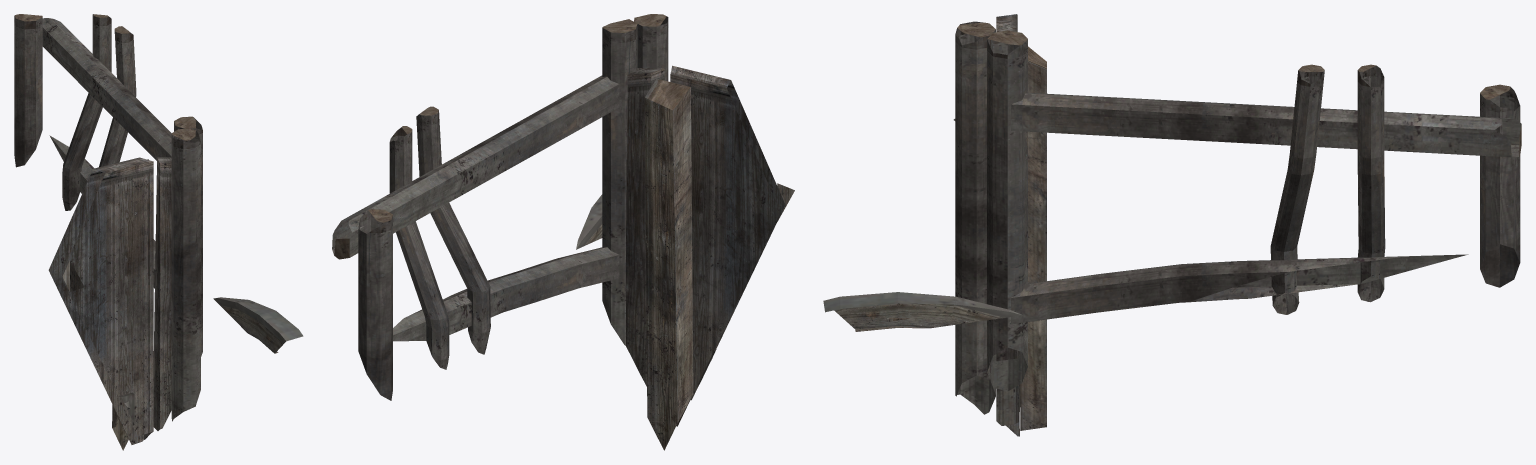
The model's file is Wagon3_17.fbx.
The picture shows the model from 3 angles, left to right: view 1: azimuth 30°, elevation 25°; view 2: azimuth 150°, elevation 25°; view 3: azimuth 270°, elevation 25°; orthographic projection. The views are drawn at different scales.
Parts seen in each view (by area): view 1: SM_Wagon03_DM.017; view 2: SM_Wagon03_DM.017; view 3: SM_Wagon03_DM.017.
Boxes of the visible parts, x1,y1,x2,y2 form: SM_Wagon03_DM.017: (14,14,303,450); SM_Wagon03_DM.017: (332,14,794,450); SM_Wagon03_DM.017: (823,14,1521,436).
Size of the model in its own units: 5757 by 9394 by 13333.
